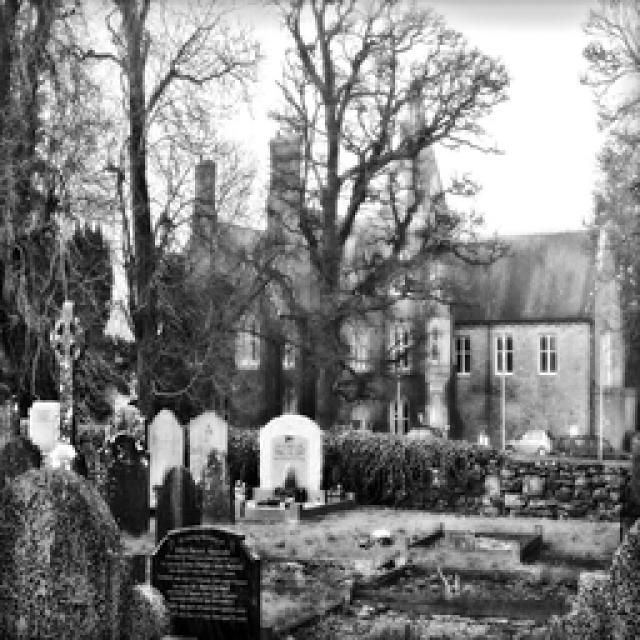Abbey: (60, 112, 638, 511)
